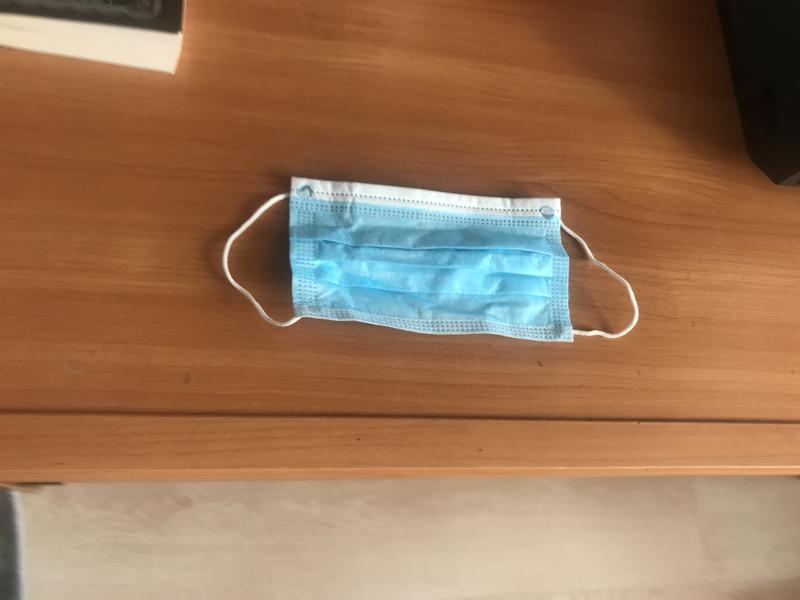medical_mask: (222, 176, 637, 346)
